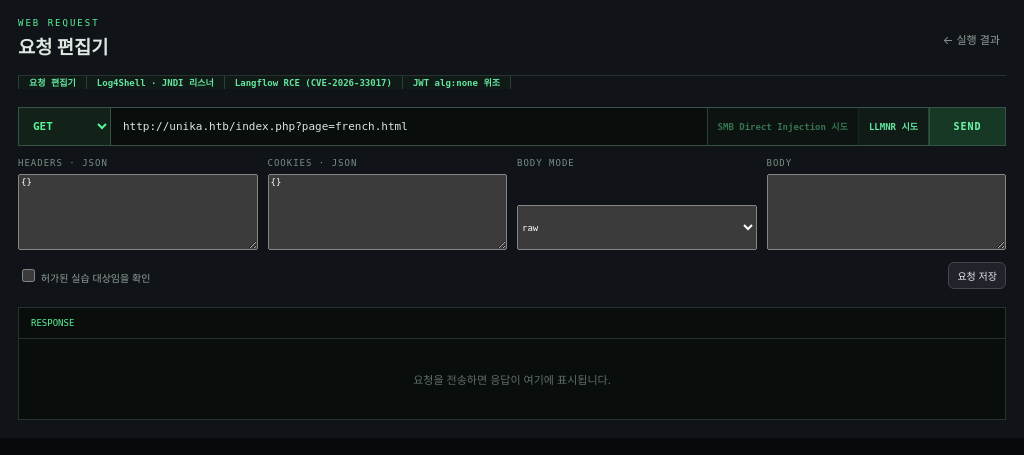
inserts a nonexistent host path for an LLMNR attempt
Click the button "LLMNR 시도": [894, 126] box [859,108,929,145]
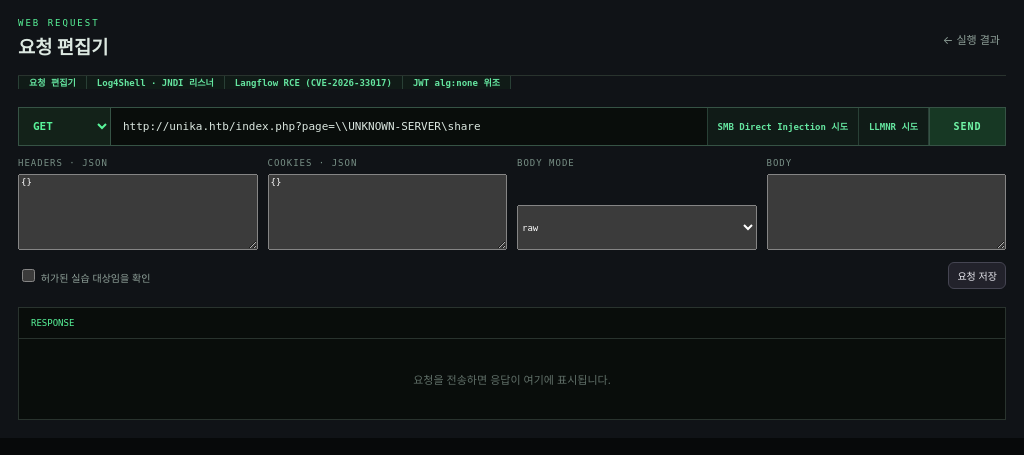
Result: the field named "Request URL" holds "http://unika.htb/index.php?page=\\\\UNKNOWN-SERVER\\share" at [111,108,707,145]
